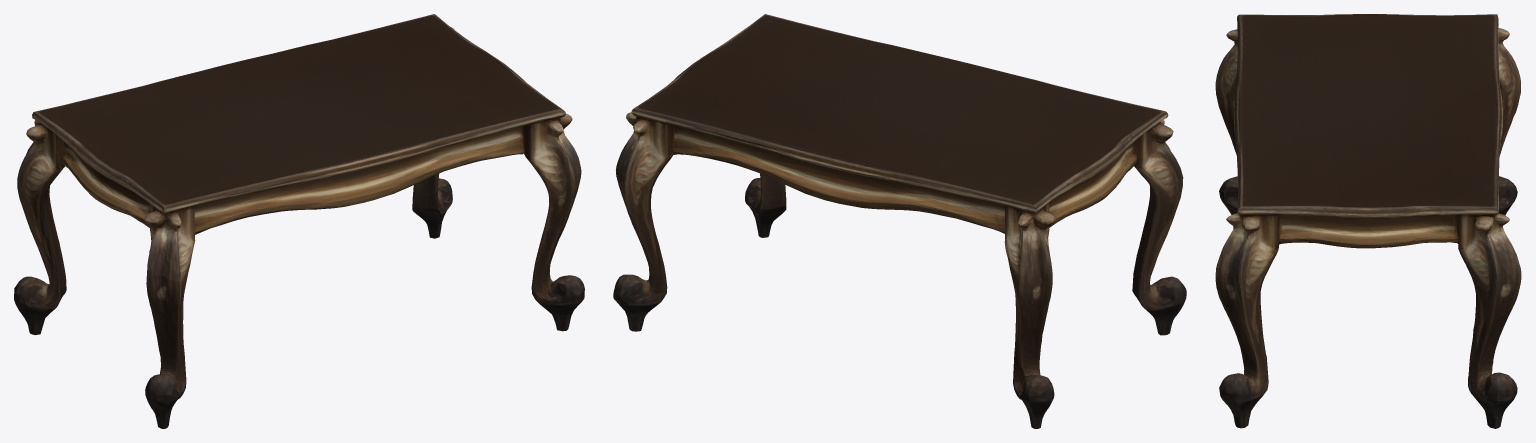
File: ct23_coffee_table_antique_wooden_go.glb
3 renders of one model, left to right at view 1: azimuth 30°, elevation 25°; view 2: azimuth 150°, elevation 25°; view 3: azimuth 270°, elevation 25°, orthographic.
Visible parts, largest first — view 1: world; view 2: world; view 3: world.
Part boxes in pixels (x1,y1,x2,y2): world: (14,14,584,428); world: (613,14,1186,428); world: (1215,14,1521,428).
Size of the model in its own units: 1 by 0.4863 by 0.6139.
1 material, 1 textured.
